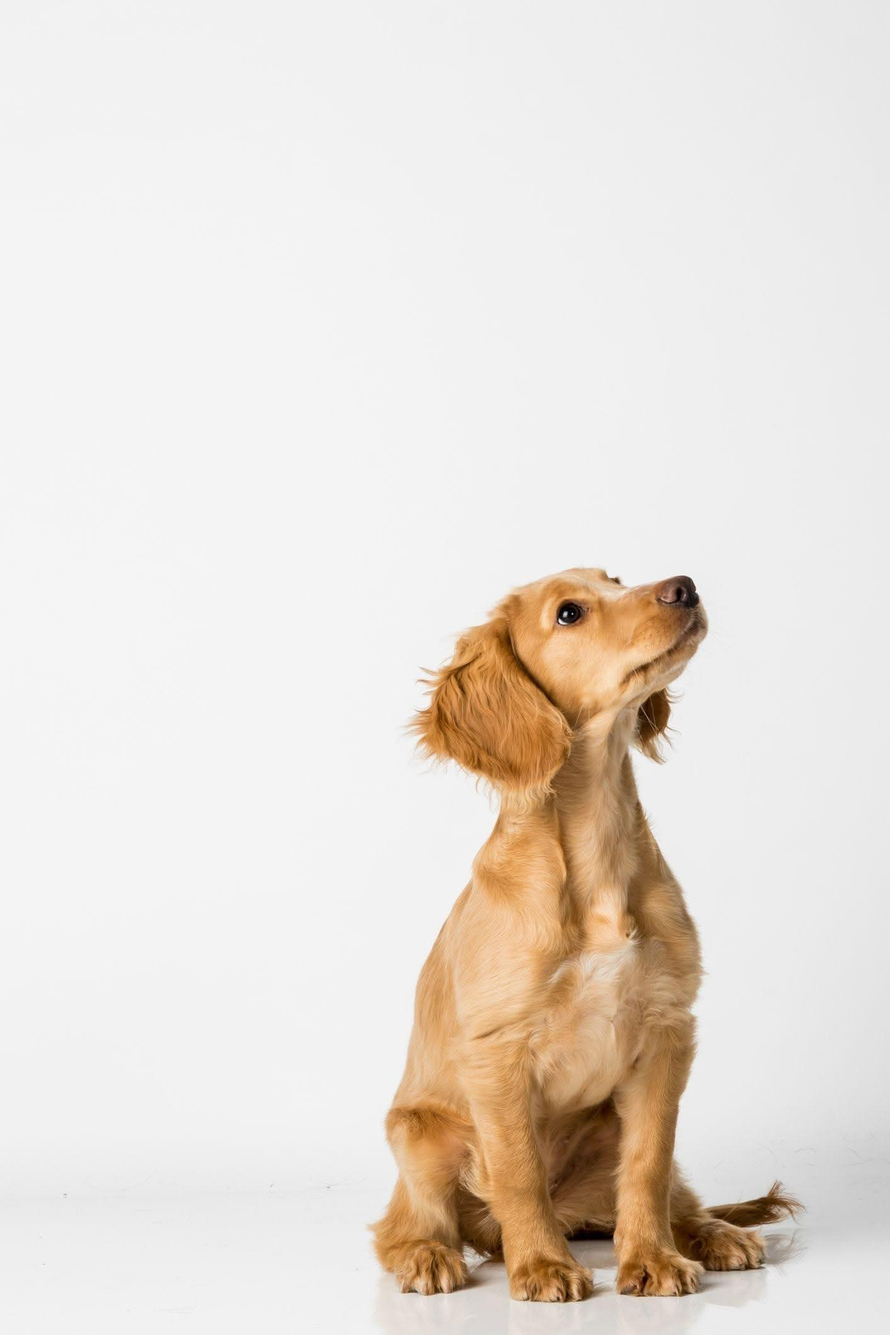puppy-dog: (368, 567, 806, 1304)
